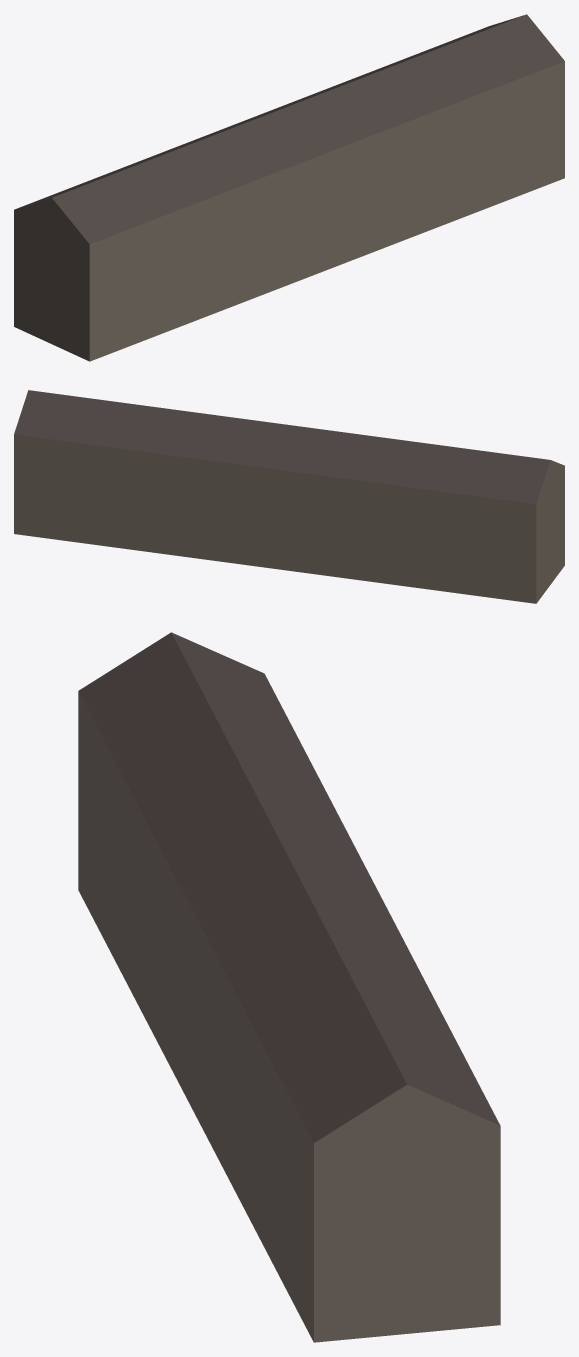
The picture shows the model from 3 angles, top to bottom: view 1: azimuth 30°, elevation 25°; view 2: azimuth 150°, elevation 25°; view 3: azimuth 270°, elevation 25°; orthographic projection. The views are drawn at different scales.
Parts seen in each view (by area): view 1: HP-w1200756573; view 2: HP-w1200756573; view 3: HP-w1200756573.
Part boxes in pixels (x1=…): HP-w1200756573: x1=14, y1=14, x2=564, y2=361; HP-w1200756573: x1=14, y1=390, x2=564, y2=603; HP-w1200756573: x1=78, y1=632, x2=500, y2=1342.
Size of the model in its own units: 45.49 by 11.26 by 17.27.
